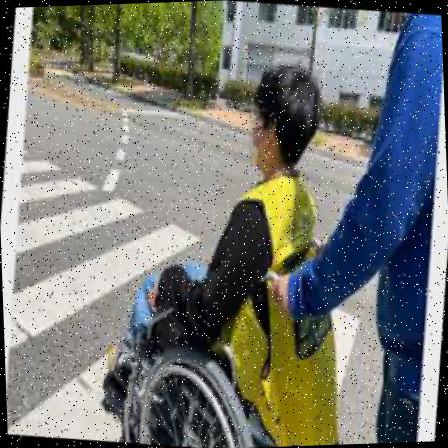wheel: (89, 44, 365, 447)
